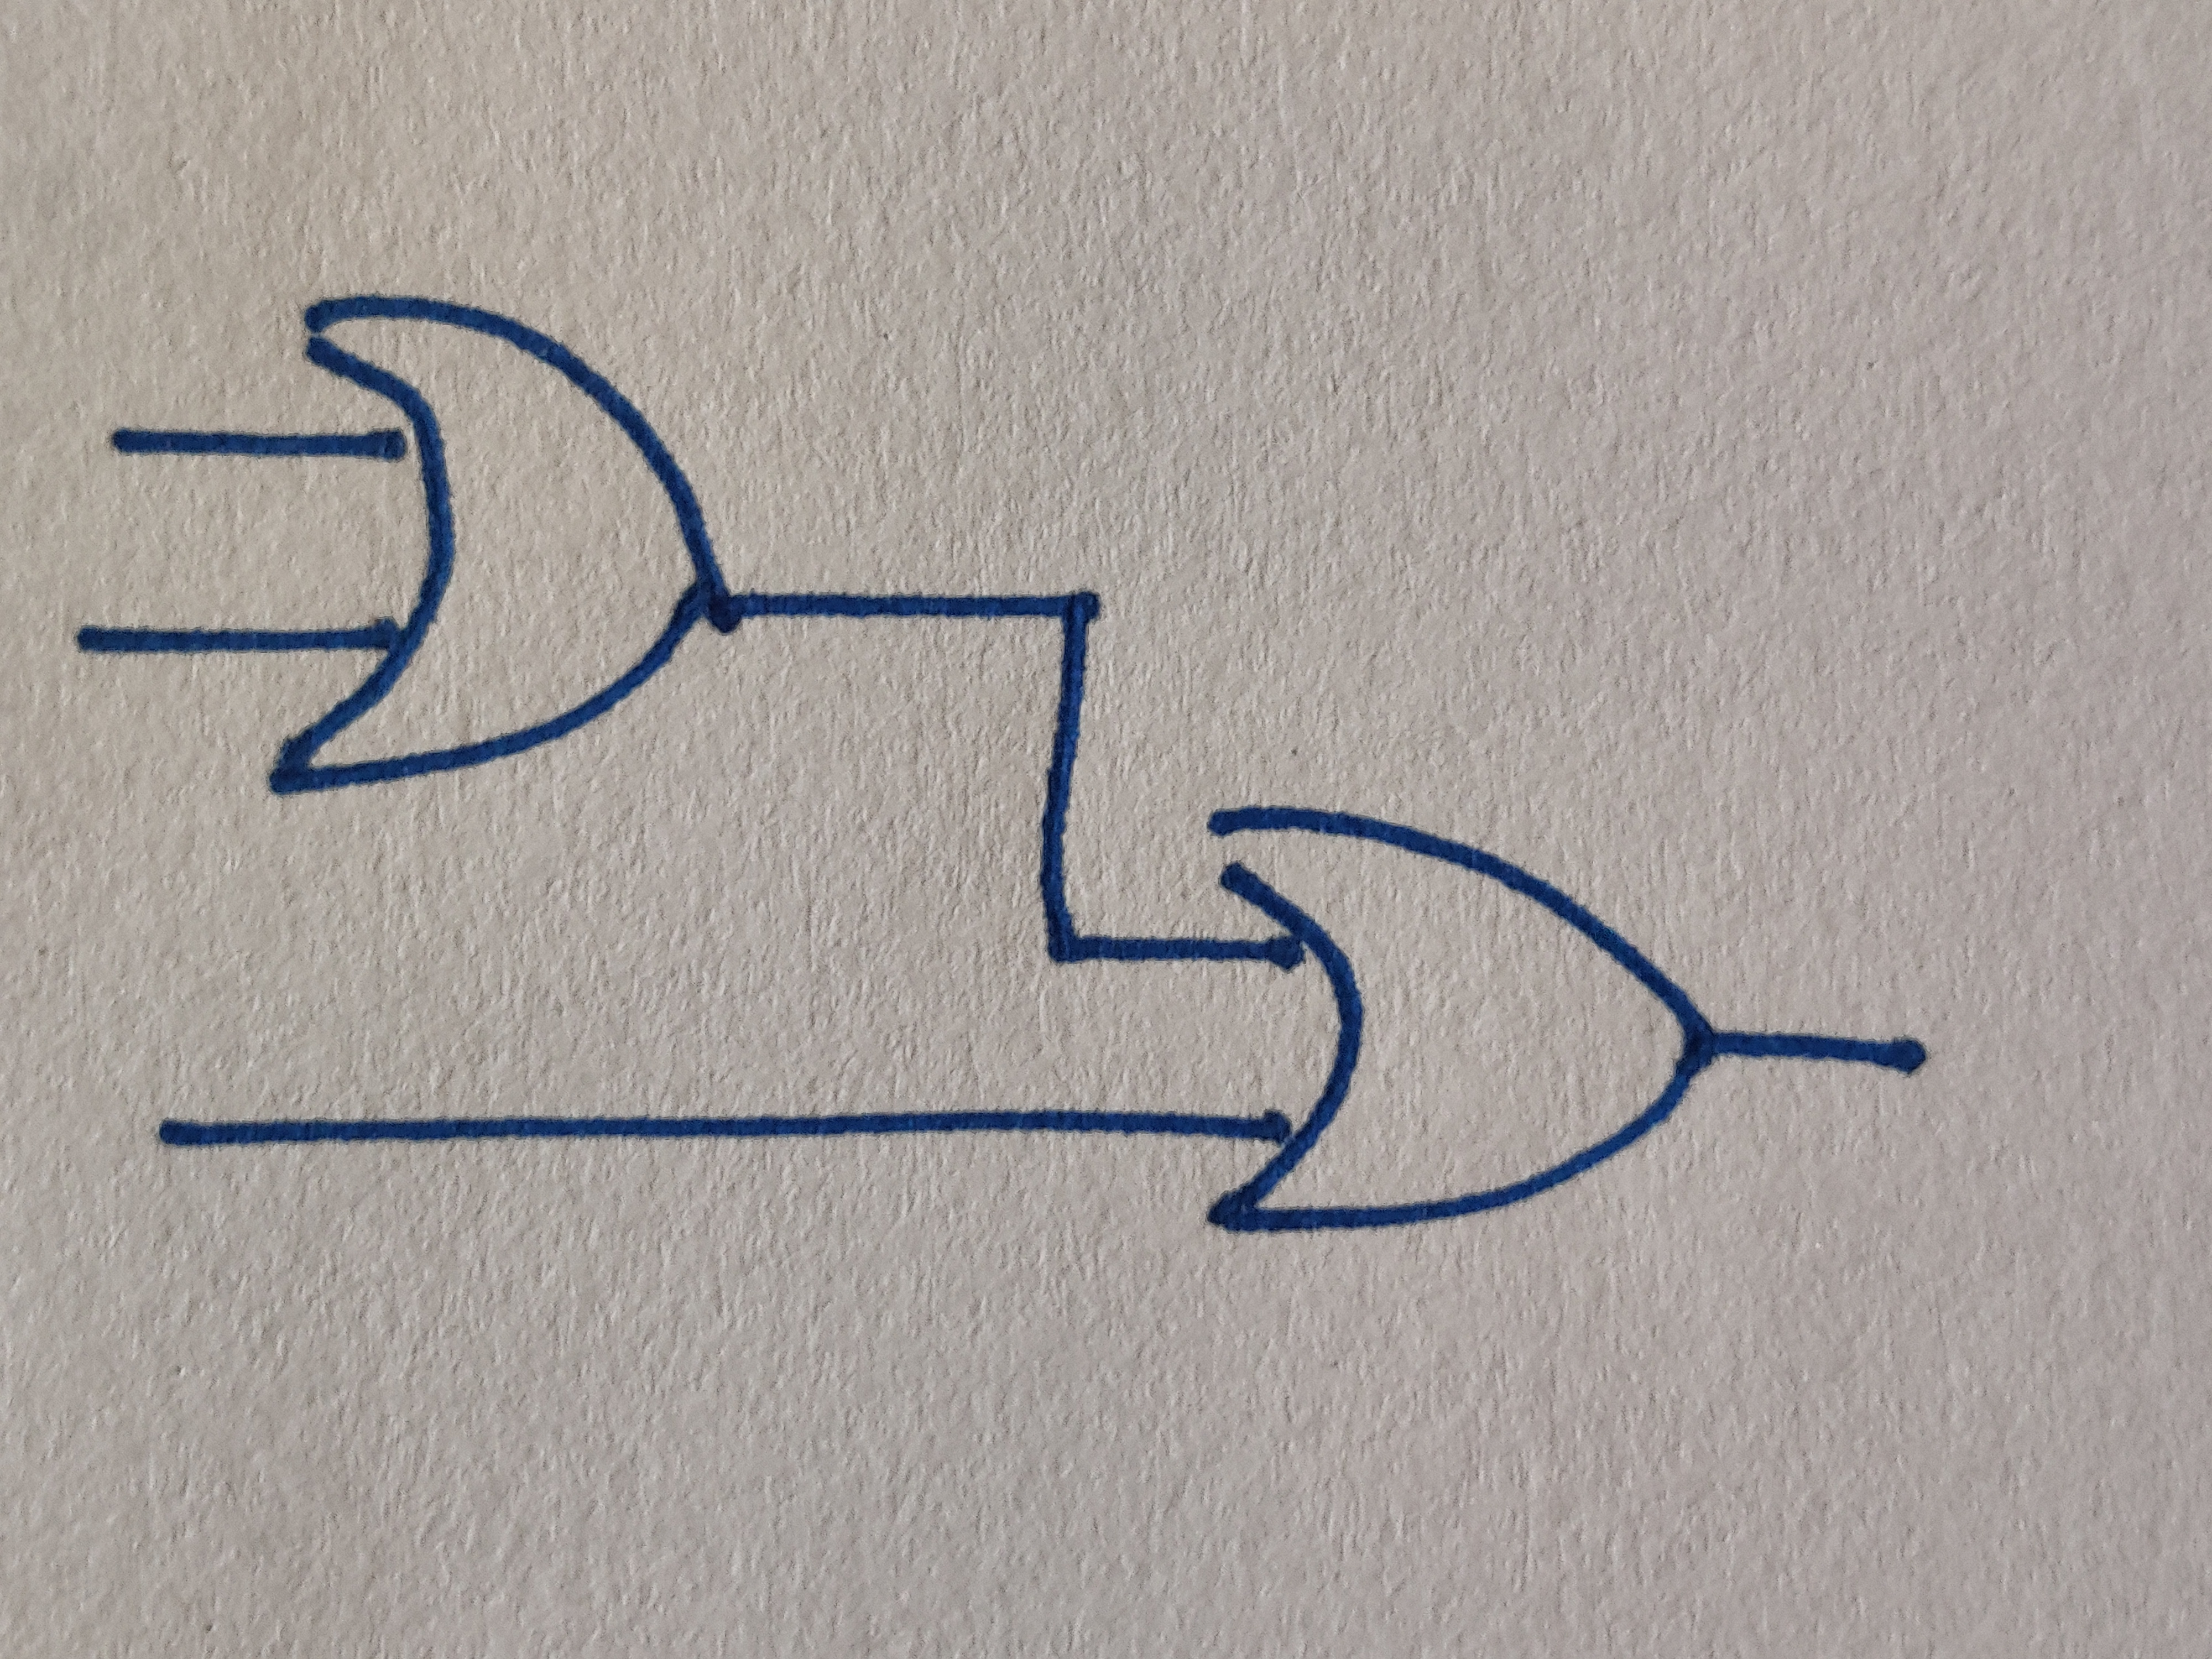or: (270, 296, 738, 795), (1209, 807, 1716, 1234)
